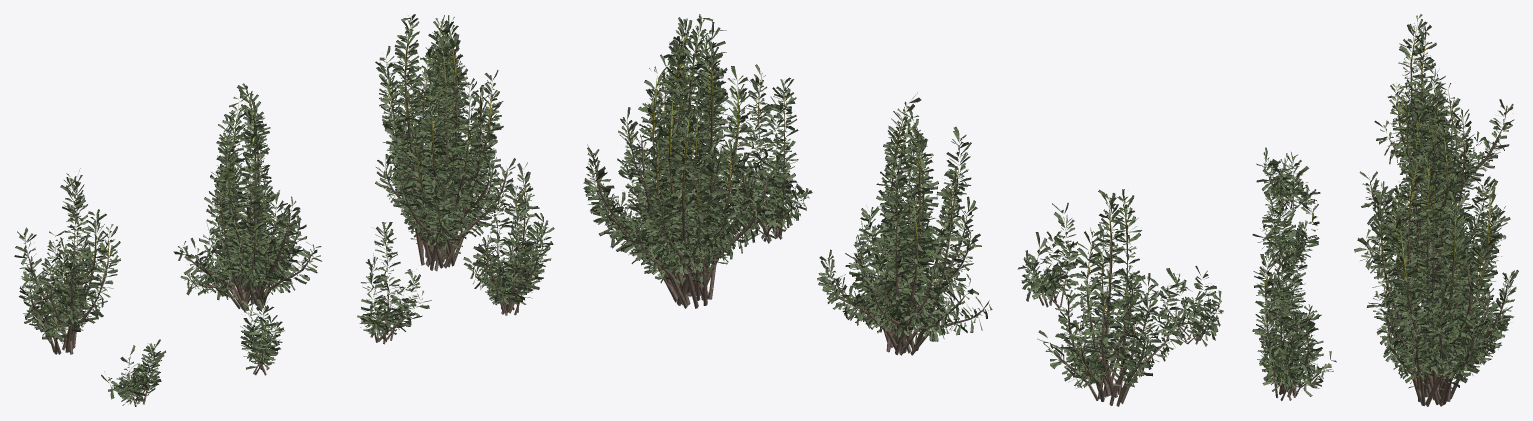
Rendered from othonna_cerarioides.glb.
The picture shows the model from 3 angles, left to right: view 1: azimuth 30°, elevation 25°; view 2: azimuth 150°, elevation 25°; view 3: azimuth 270°, elevation 25°; orthographic projection. The views are drawn at different scales.
Parts seen in each view (by area): view 1: othonna_cerarioides_a; view 2: othonna_cerarioides_a; view 3: othonna_cerarioides_a.
Boxes of the visible parts, x1=… form: othonna_cerarioides_a: x1=14, y1=14, x2=554, y2=406; othonna_cerarioides_a: x1=583, y1=14, x2=1223, y2=406; othonna_cerarioides_a: x1=1252, y1=14, x2=1518, y2=406.
Size of the model in its own units: 3.97 by 1.97 by 1.8.
Materials: 2 (2 with a texture image).
